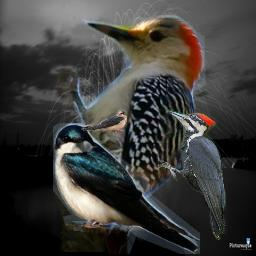Swallow: (53, 123, 200, 254), (81, 109, 127, 134)
Woodpecker: (53, 4, 235, 252), (159, 109, 231, 240)
